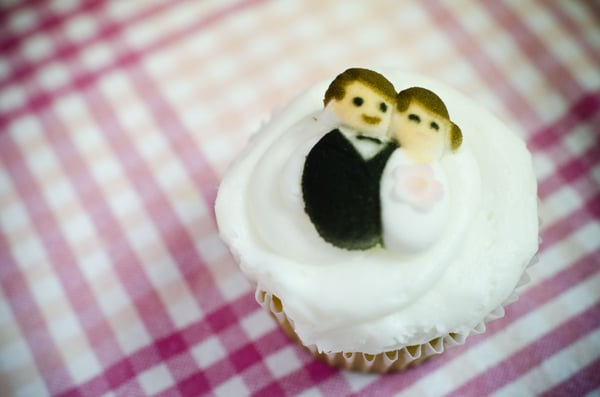curry: (1, 0, 596, 391)
sushi: (215, 64, 542, 374)
